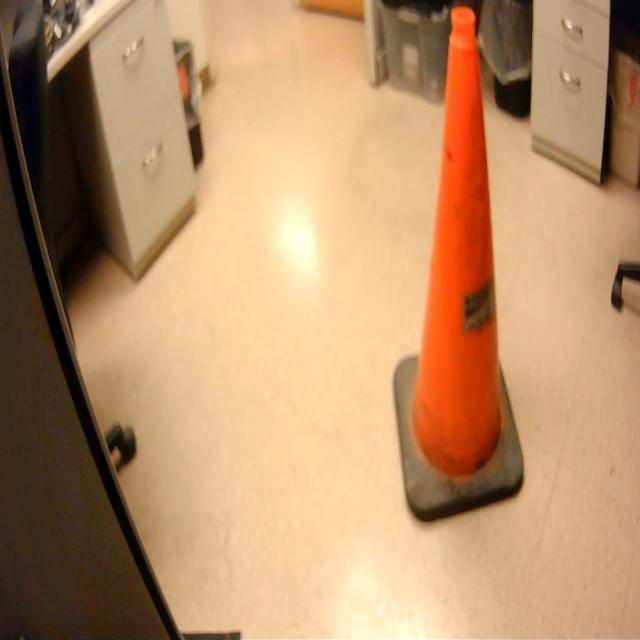traffic cone: (386, 2, 532, 529)
